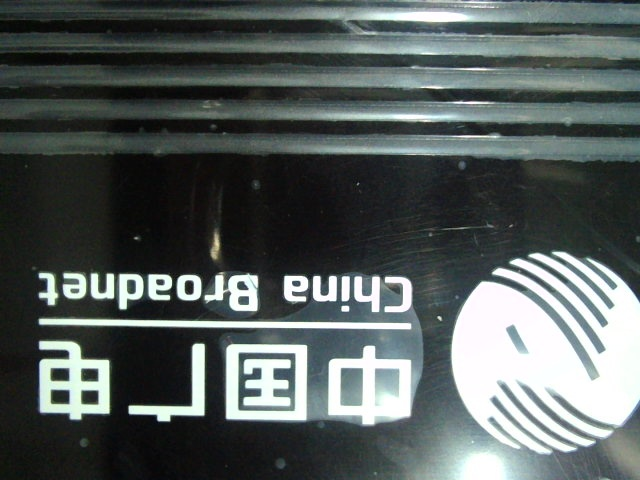AW_ChinaBroadNet: (25, 221, 638, 456)
